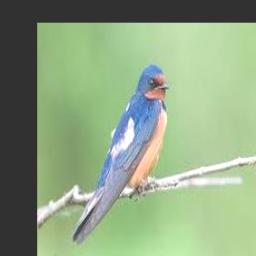Swallow: (72, 66, 170, 244)
